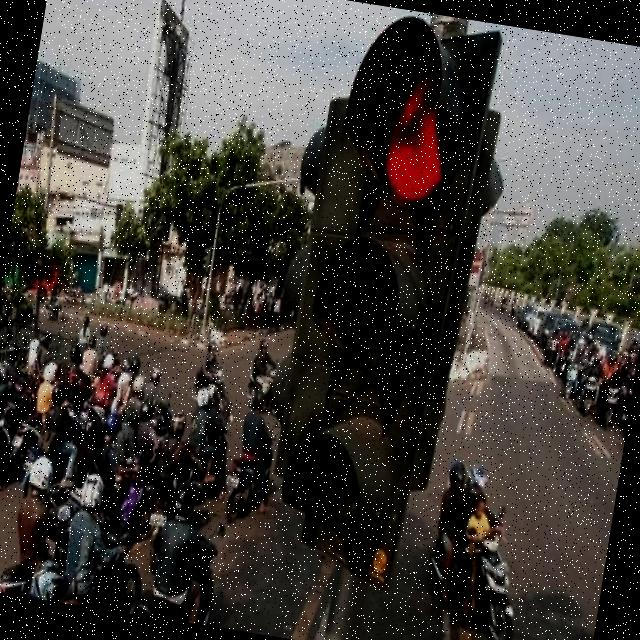Czerwone swiatlo: (290, 24, 479, 572)
